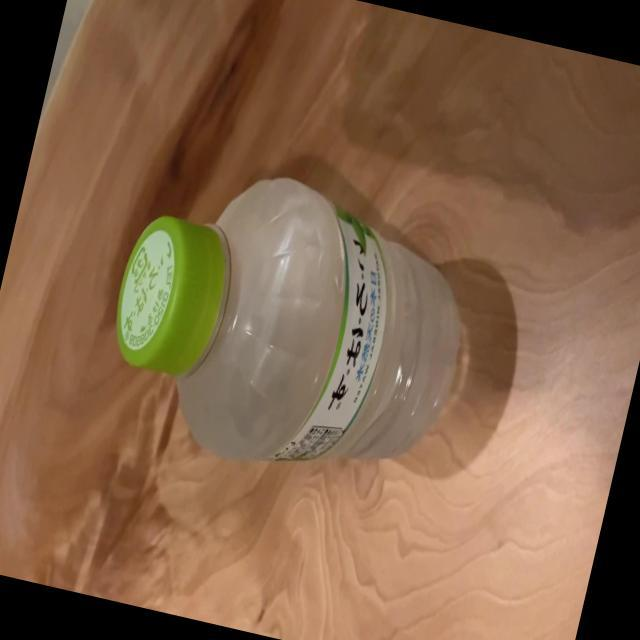good: (84, 142, 490, 503)
